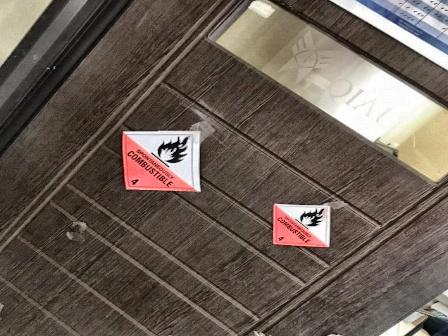spontaneously-combustible: (121, 130, 205, 193), (270, 202, 333, 249)
